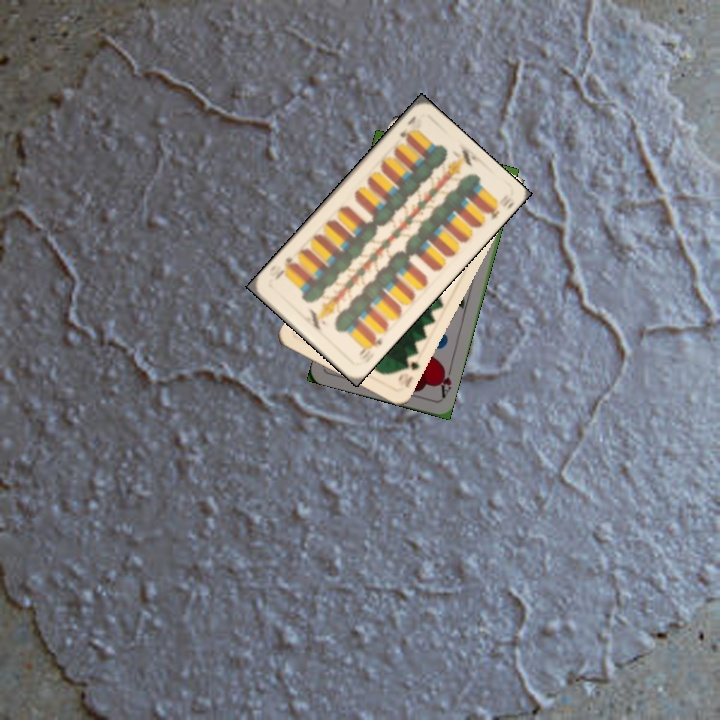E10: (354, 330, 385, 358), (396, 112, 419, 144)
G10: (394, 357, 422, 391)
HA: (434, 361, 455, 401)
